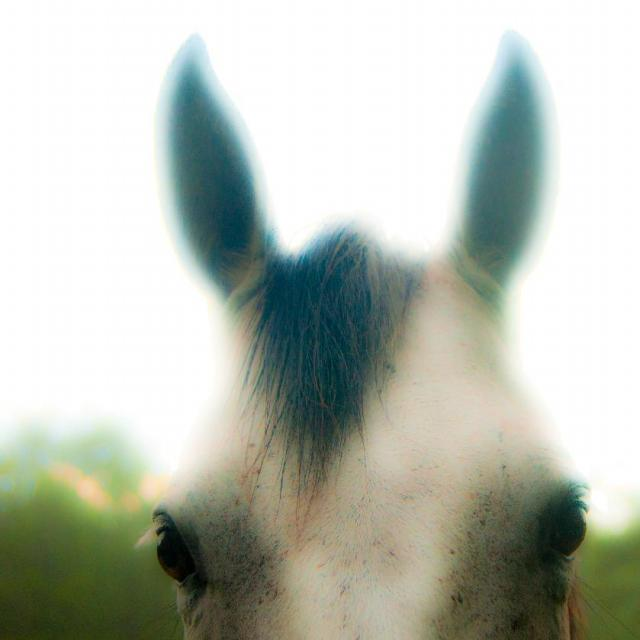Horse: (131, 30, 639, 640)
